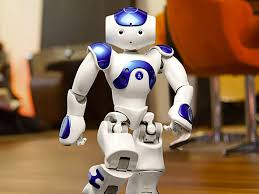nao: (55, 6, 198, 194)
